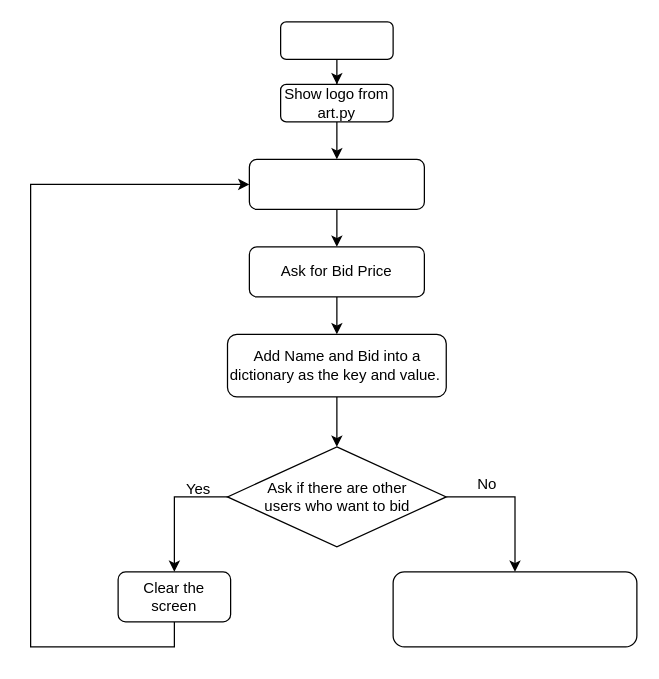
Image size: 659x679. Some labels were removed from this diagram. Each missing label, with the centre of its shape:
"Ask for Name input" goes at (336,183).
"Find the highest bid in the dictionary and declare them as the winner" goes at (514,609).
"START" goes at (336,40).
